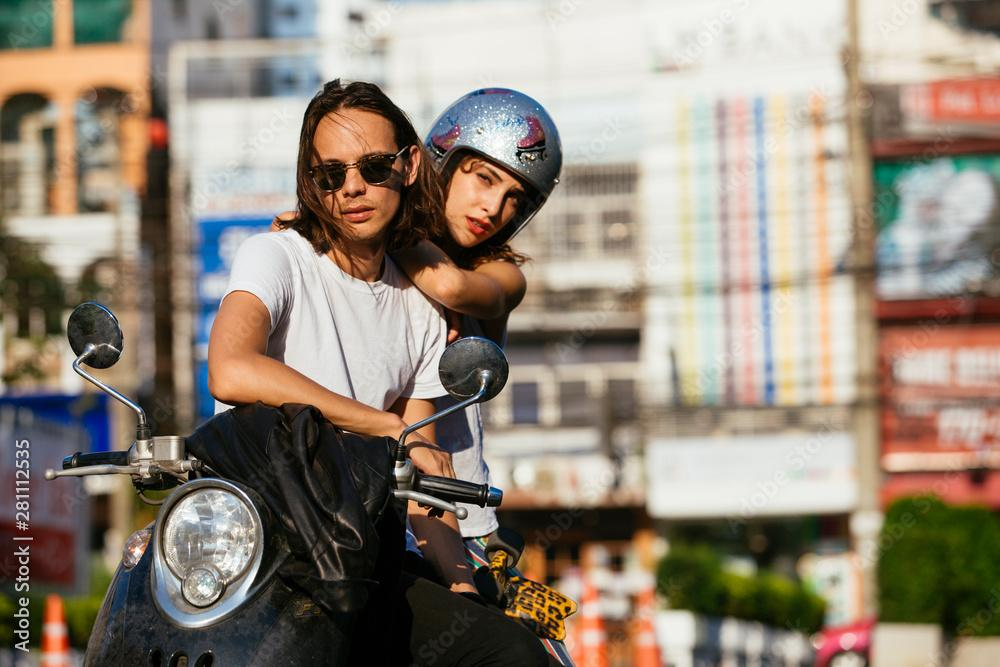helmet: (413, 86, 564, 264)
nohelmet: (295, 77, 422, 248)
